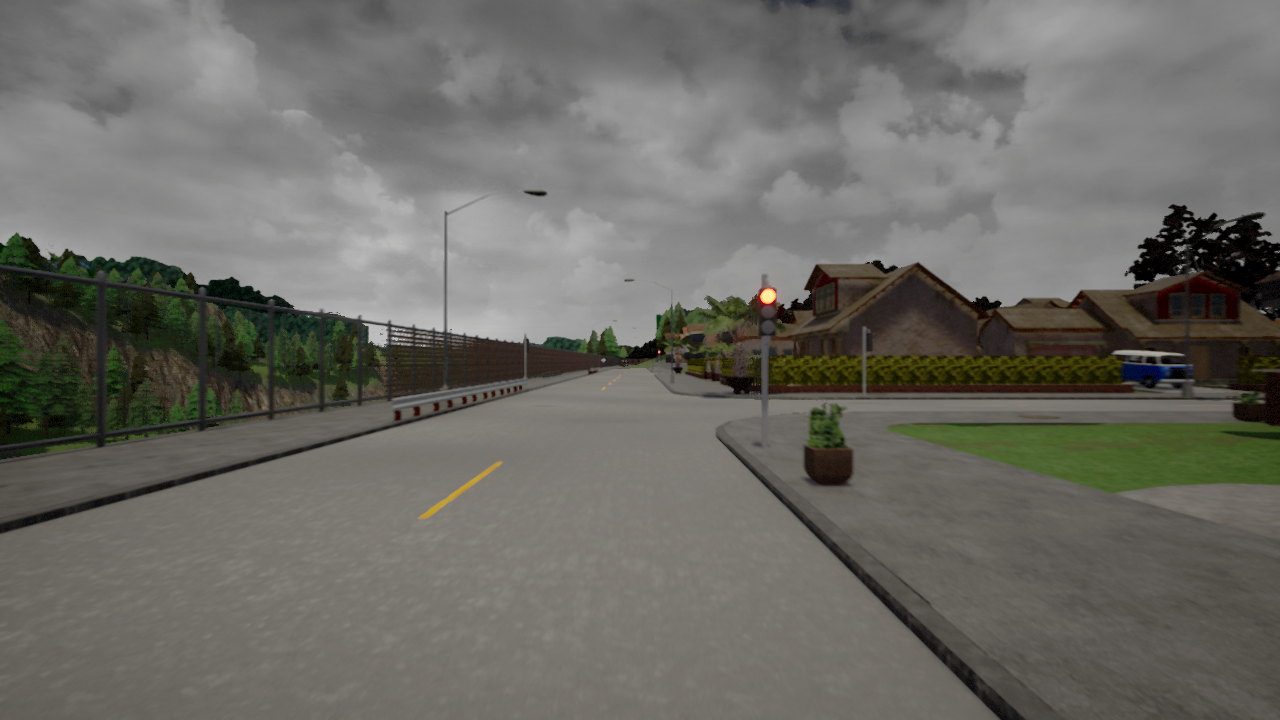red: (755, 286, 778, 338)
